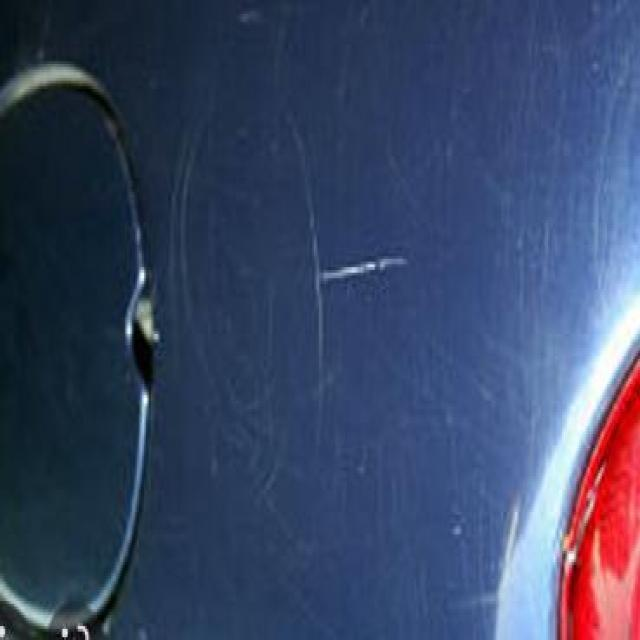scratch: (311, 244, 412, 296)
